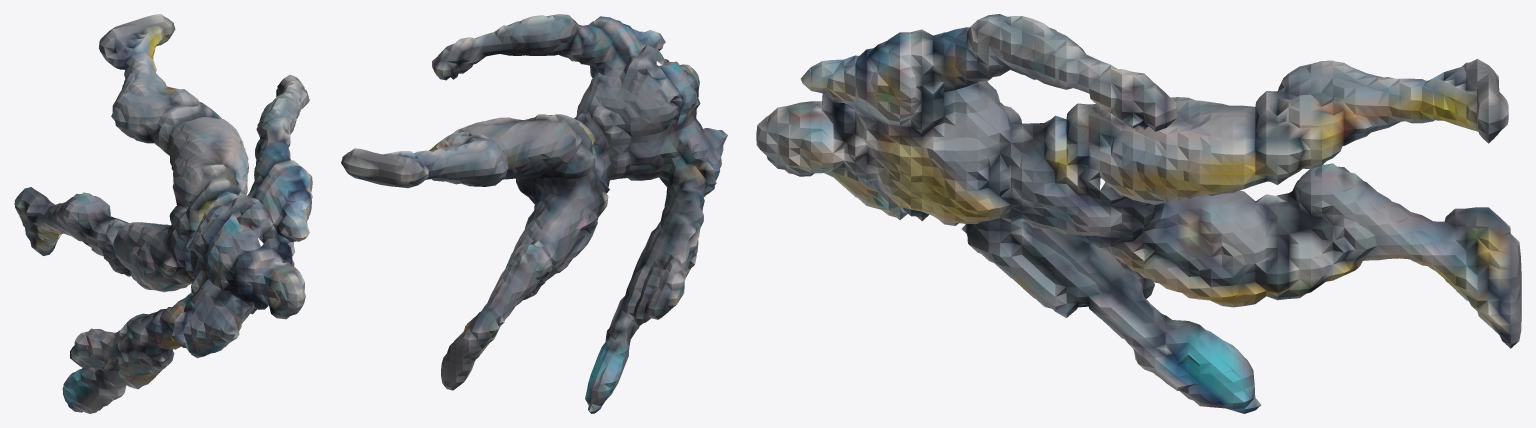
File: future_warrior_m_0.glb
The picture shows the model from 3 angles, left to right: view 1: azimuth 30°, elevation 25°; view 2: azimuth 150°, elevation 25°; view 3: azimuth 270°, elevation 25°; orthographic projection. The views are drawn at different scales.
Visible parts, largest first — view 1: world; view 2: world; view 3: world.
Boxes of the visible parts, x1,y1,x2,y2 form: world: (14, 14, 312, 413); world: (341, 14, 727, 413); world: (756, 14, 1521, 413).
Size of the model in its own units: 0.5185 by 0.6667 by 0.9444.
